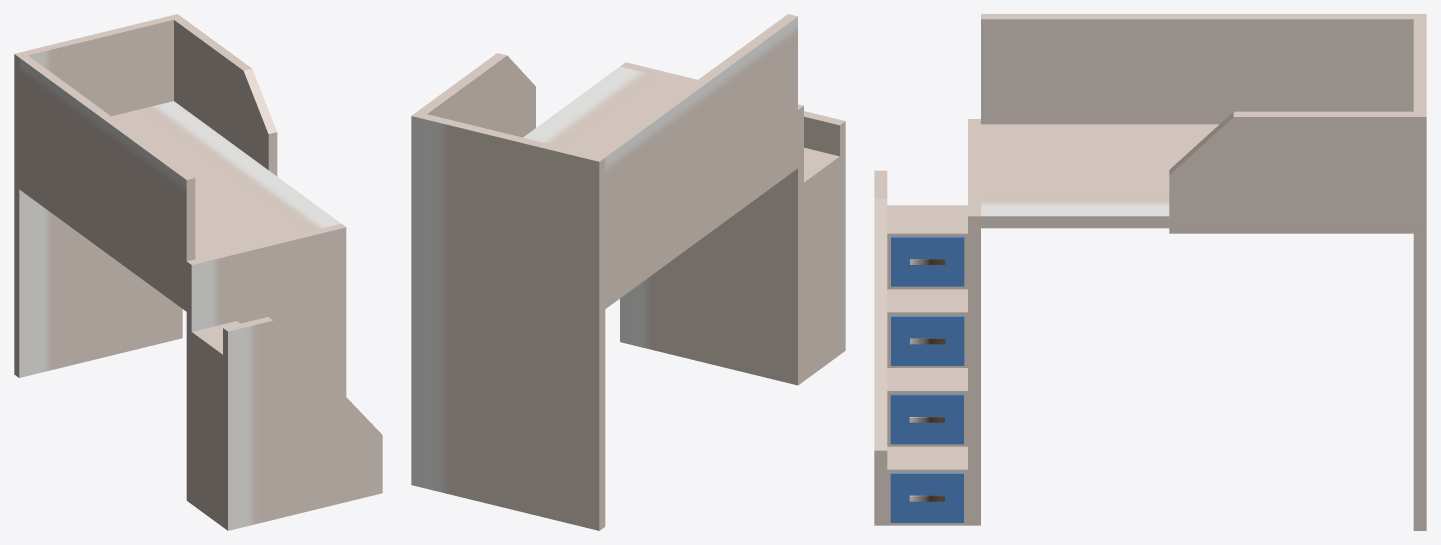
File: Childroom2_bed_base.fbx
The picture shows the model from 3 angles, left to right: view 1: azimuth 30°, elevation 25°; view 2: azimuth 150°, elevation 25°; view 3: azimuth 270°, elevation 25°; orthographic projection. The views are drawn at different scales.
Visible parts, largest first — view 1: Childroom2_bed_base; view 2: Childroom2_bed_base; view 3: Childroom2_bed_base.
Boxes of the visible parts, left/top/right/bottom form: Childroom2_bed_base: left=14, top=14, right=382, bottom=530; Childroom2_bed_base: left=411, top=14, right=845, bottom=530; Childroom2_bed_base: left=874, top=14, right=1426, bottom=530.
Size of the model in its own units: 155 by 290 by 351.
